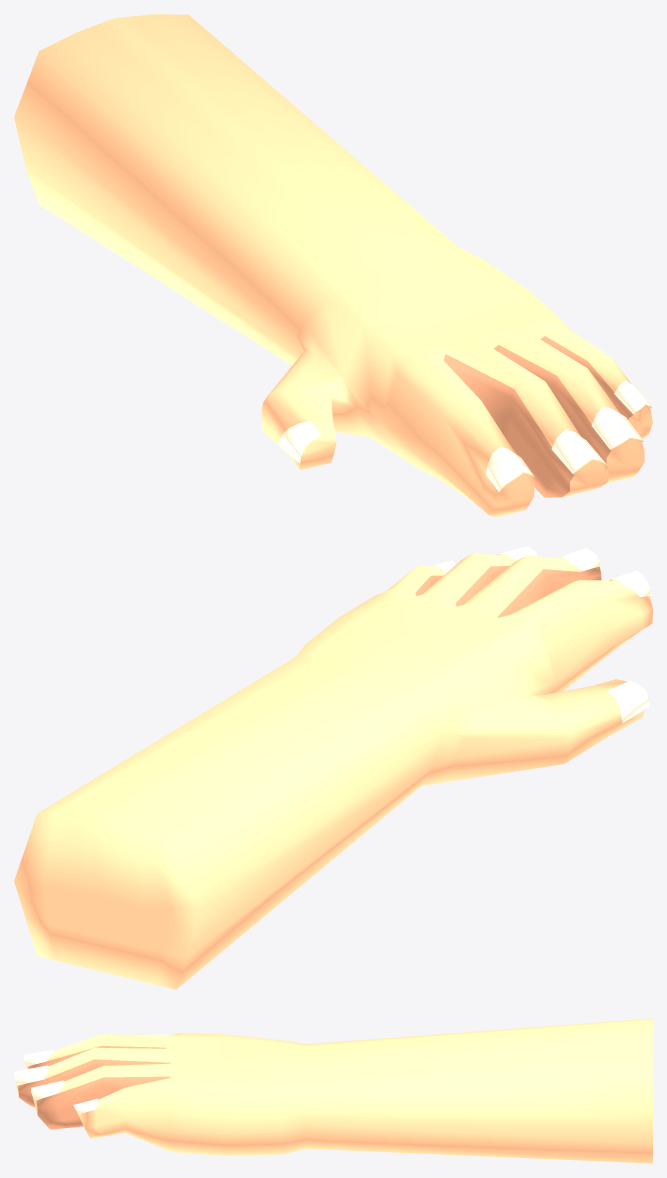
The model's file is arm.fbx.
3 views of the same model, one above another, from view 1: azimuth 30°, elevation 25°; view 2: azimuth 150°, elevation 25°; view 3: azimuth 270°, elevation 25° (orthographic). The views are drawn at different scales.
Parts seen in each view (by area): view 1: Cube.086; view 2: Cube.086; view 3: Cube.086.
Boxes of the visible parts, <box> form: Cube.086: <box>14,14,652,517</box>; Cube.086: <box>14,546,652,989</box>; Cube.086: <box>14,1018,652,1163</box>.
Size of the model in its own units: 542 by 281 by 1510.
